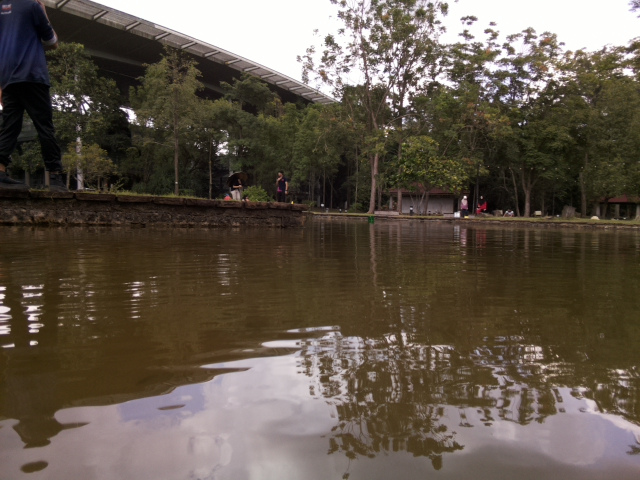obstacle: (365, 215, 377, 224)
